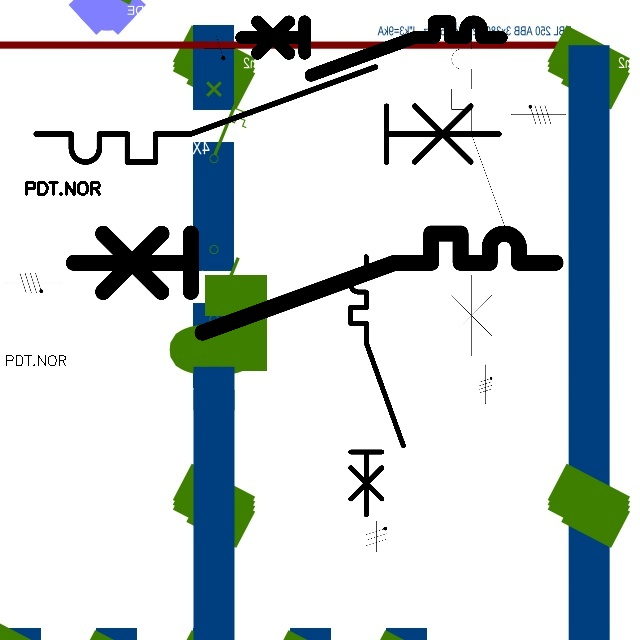interruptor_termomagnetico: (61, 221, 567, 345), (24, 55, 511, 174), (443, 15, 528, 365), (234, 15, 507, 82), (344, 250, 410, 521)
